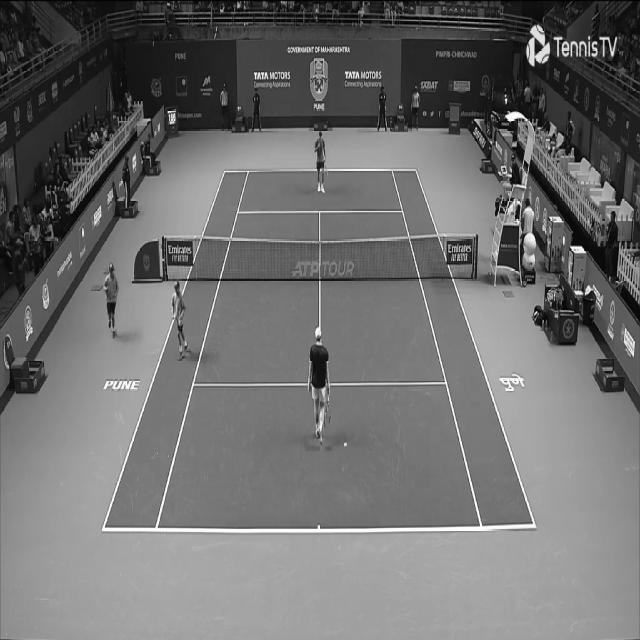tennis-court: (101, 170, 537, 532)
